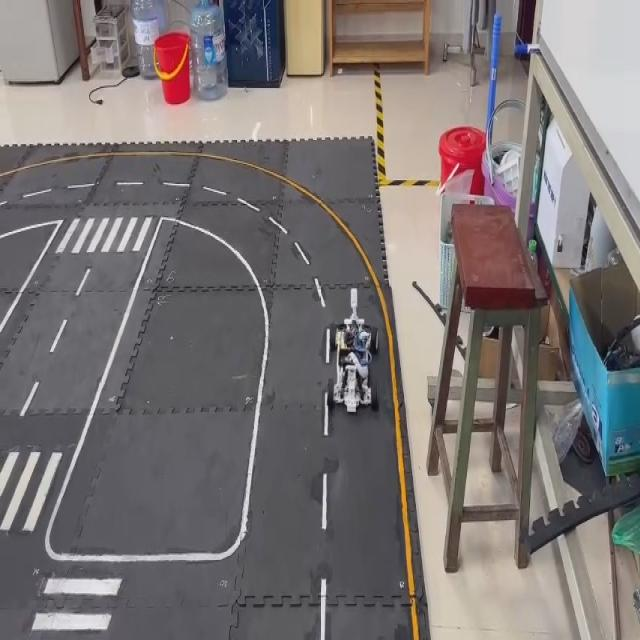SiCo-CAR: (322, 285, 379, 435)
